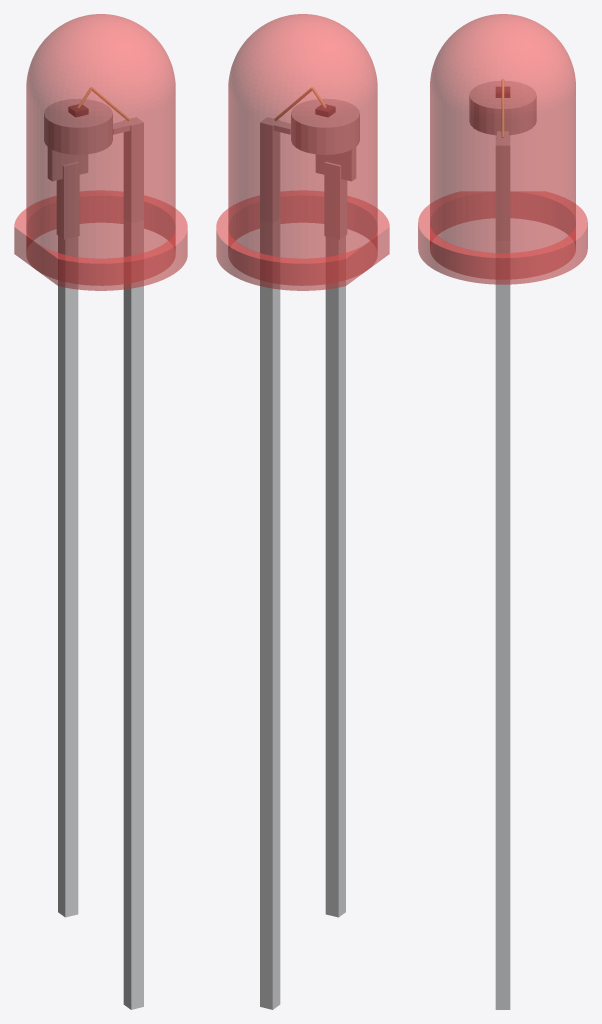
The model's file is led.glb.
3 renders of one model, left to right at view 1: azimuth 30°, elevation 25°; view 2: azimuth 150°, elevation 25°; view 3: azimuth 270°, elevation 25°, orthographic. The views are drawn at different scales.
Parts seen in each view (by area): view 1: LED_Red_Lens, Lead_Silver, Inner_Metal; view 2: LED_Red_Lens, Lead_Silver, Inner_Metal; view 3: LED_Red_Lens, Lead_Silver, Inner_Metal.
Boxes of the visible parts, x1,y1,x2,y2 form: LED_Red_Lens: (14,14,187,290); Lead_Silver: (58,218,143,1009); Inner_Metal: (44,99,143,239); LED_Red_Lens: (216,14,389,290); Lead_Silver: (260,218,345,1009); Inner_Metal: (260,99,359,239); LED_Red_Lens: (418,14,587,284); Lead_Silver: (495,241,510,1009); Inner_Metal: (469,81,536,240).
Size of the model in its own units: 0.0054 by 0.0366 by 0.0058.
